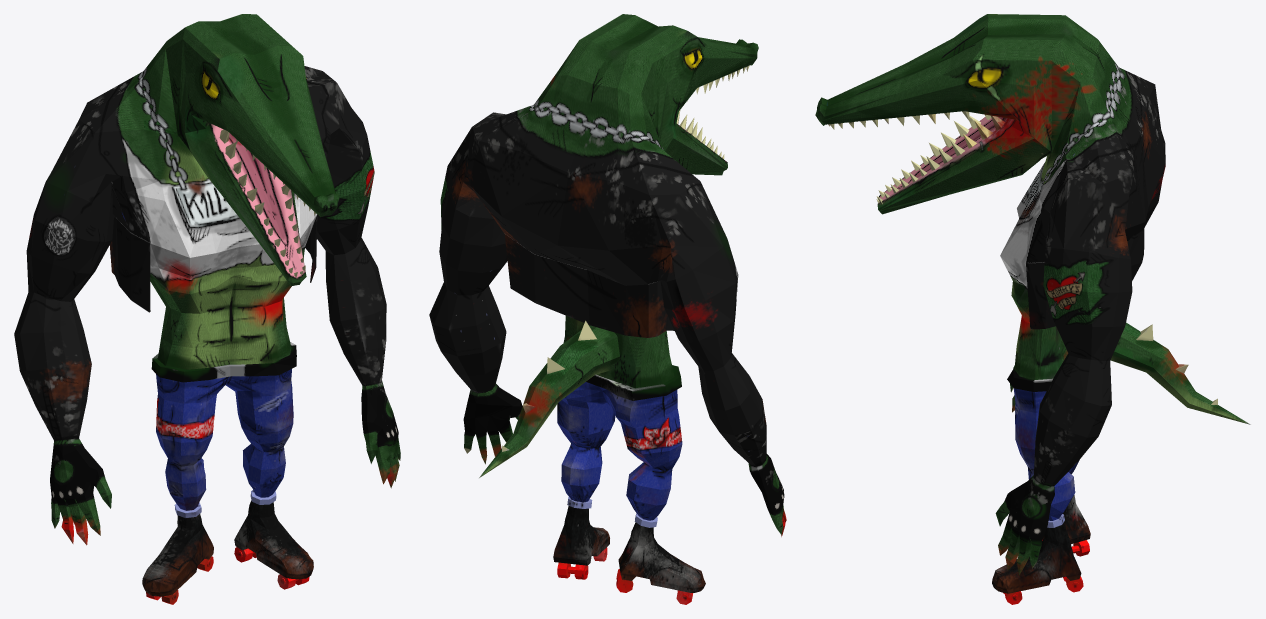
The model's file is cocodrilaBonesSelect_000002.obj.
The picture shows the model from 3 angles, left to right: view 1: azimuth 30°, elevation 25°; view 2: azimuth 150°, elevation 25°; view 3: azimuth 270°, elevation 25°; orthographic projection. The views are drawn at different scales.
Parts seen in each view (by area): view 1: Crocodile.002_Cylinder.002; view 2: Crocodile.002_Cylinder.002; view 3: Crocodile.002_Cylinder.002.
Part boxes in pixels (box(x1,y1,x2,y2)): Crocodile.002_Cylinder.002: box(14, 14, 400, 604); Crocodile.002_Cylinder.002: box(429, 14, 786, 604); Crocodile.002_Cylinder.002: box(815, 14, 1250, 604).
Bounding box in the file's own units: 4.3 × 6.72 × 4.85.
